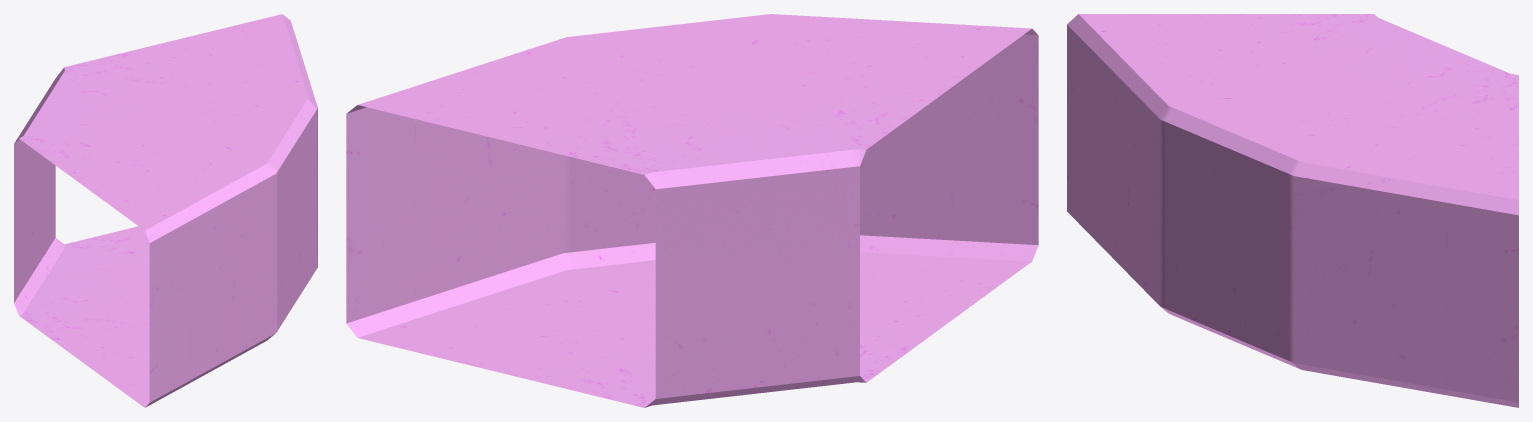
Rendered from AirDuctAngle_02_SM_Low.fbx.
3 renders of one model, left to right at view 1: azimuth 30°, elevation 25°; view 2: azimuth 150°, elevation 25°; view 3: azimuth 270°, elevation 25°, orthographic. The views are drawn at different scales.
Visible parts, largest first — view 1: Angle_Short; view 2: Angle_Short; view 3: Angle_Short.
Part boxes in pixels (<box>): Angle_Short: <box>14,14,317,407</box>; Angle_Short: <box>346,14,1038,407</box>; Angle_Short: <box>1067,14,1518,407</box>.
Bounding box in the file's own units: 126 × 64 × 126.
1 material, 1 textured.
